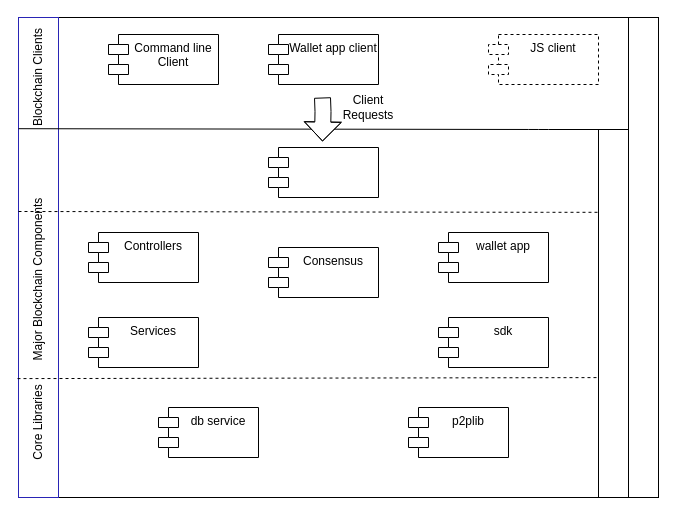
Image size: 677x515. Some labels were removed from this diagram. Each missing label, with the box of its shape:
Node: (268, 146, 378, 198)
Schema (Transaction Pool): (598, 128, 628, 498)
Utils (Crypto): (628, 16, 658, 498)
